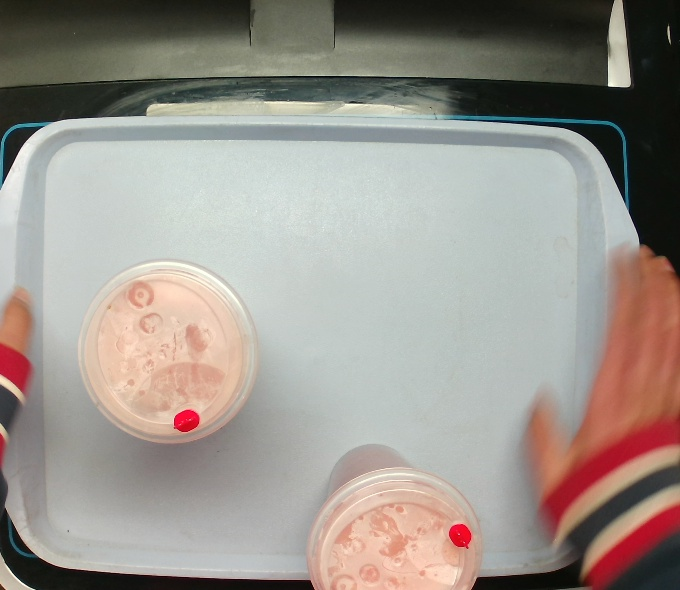wcq-XiGuaZhi: (75, 255, 261, 447), (301, 441, 486, 590)
